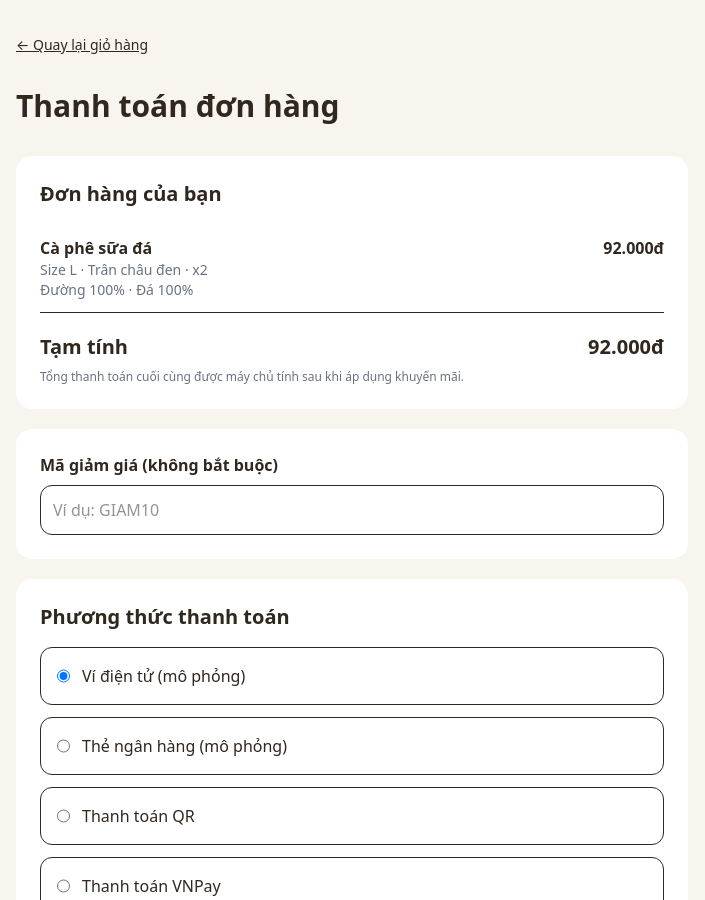
Test: BrewLite - Thanh toan API Task 5 › FAILED: giu gio va thu lai tren cung don
The image size is (705, 900).
Expected: the text "Cà phê sữa đá" is shown, x1=40 y1=237 x2=152 y2=259
Click the radio button labelled "Thẻ ngân hàng (mô phỏng)".
click(64, 746)  # box x1=57 y1=734 x2=70 y2=758
(page scrolled)
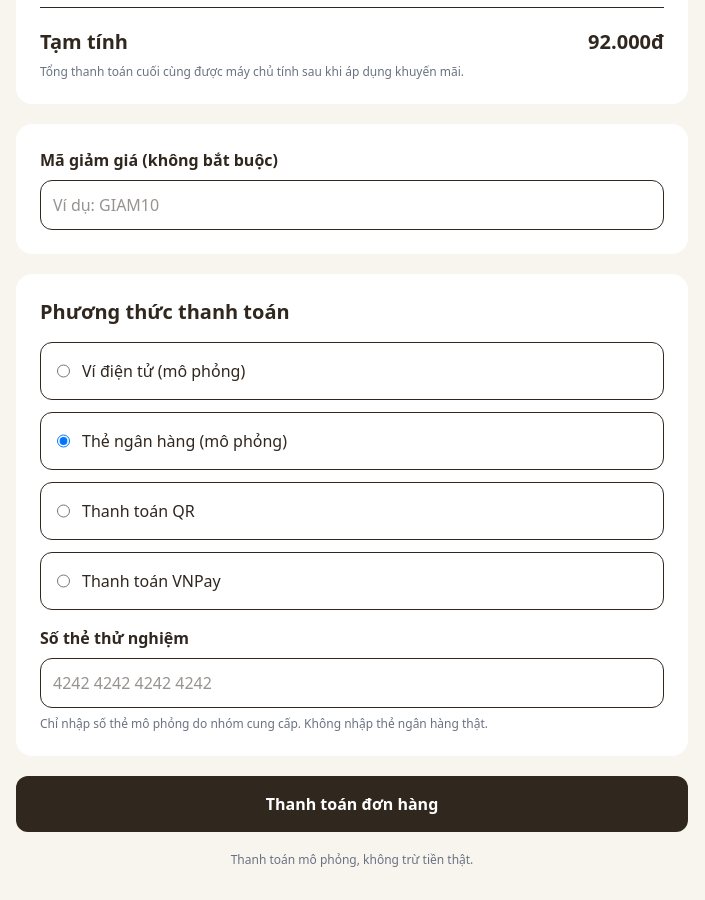
Type "4000 0000 0000 0002" into the field with placeholder "4242 4242 4242 4242".
click(352, 683); type("4000 0000 0000 0002")  # box x1=40 y1=658 x2=664 y2=708
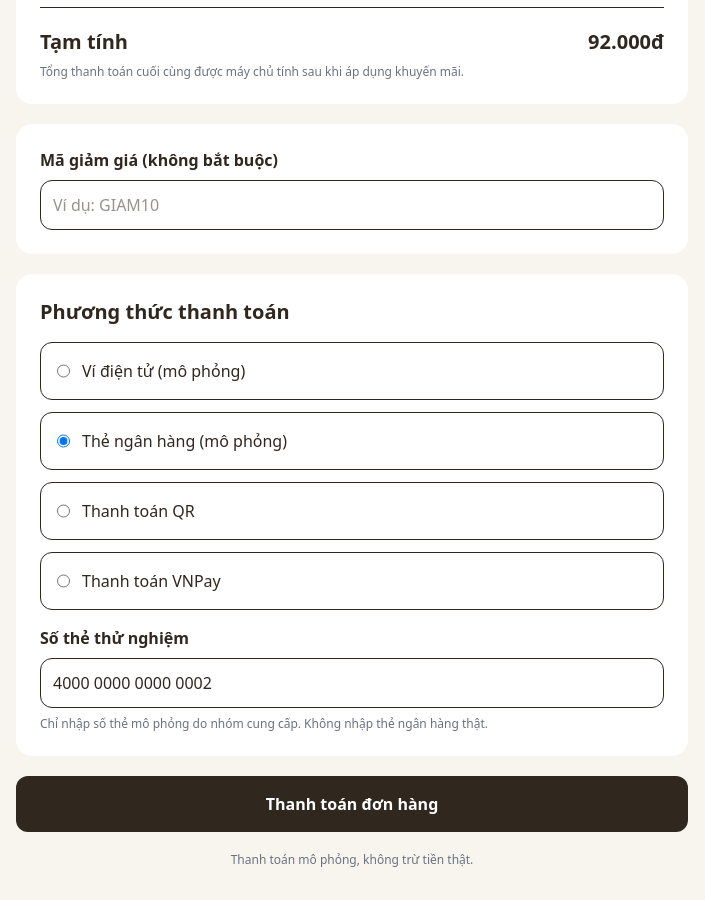
Click the button "Thanh toán đơn hàng".
click(352, 804)  # box x1=16 y1=776 x2=688 y2=832
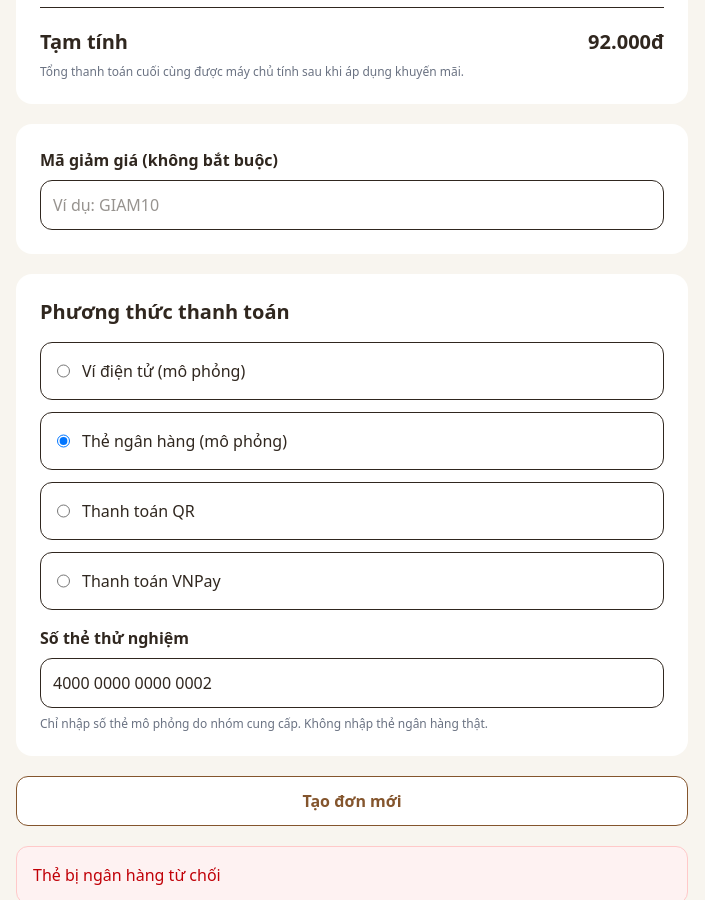
Replace the text in the field with placeholder "4242 4242 4242 4242" with "4242 4242 4242 4242" at (352, 683), box x1=40 y1=658 x2=664 y2=708
(page scrolled)
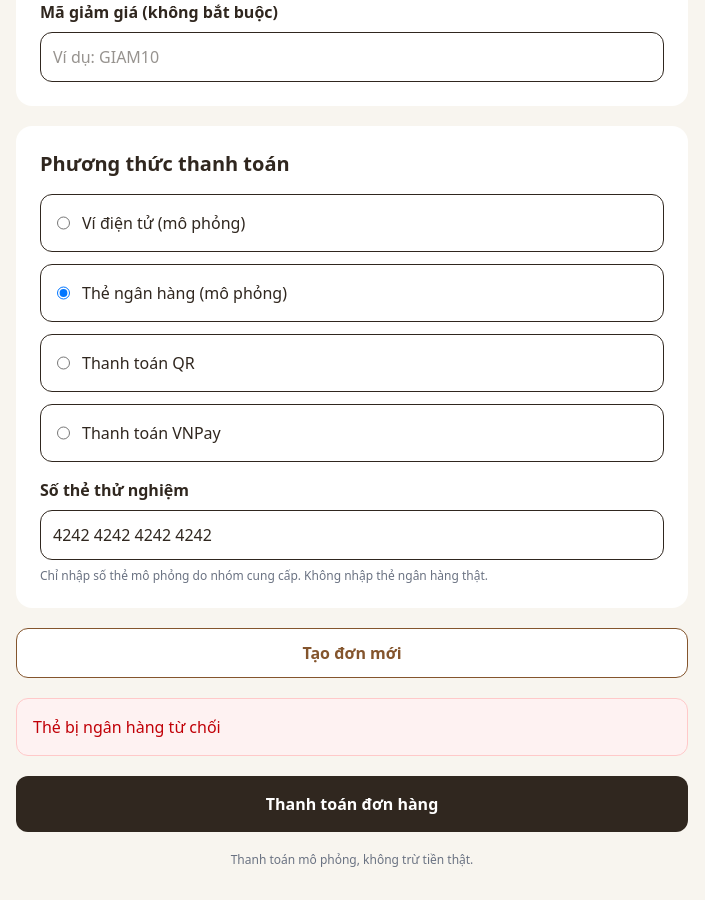
Click the button "Thanh toán đơn hàng".
click(352, 804)  # box x1=16 y1=776 x2=688 y2=832
(page scrolled)
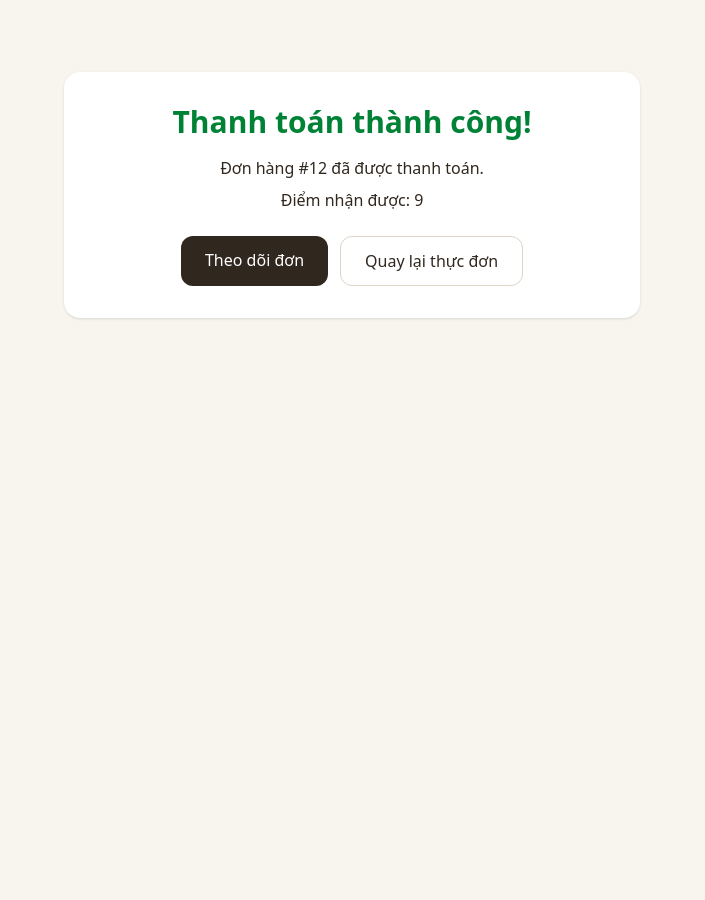
Expected: the heading "Thanh toán thành công!" is shown, x1=172 y1=101 x2=532 y2=142
